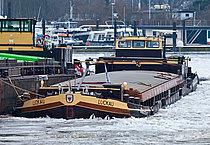Ship: (14, 35, 205, 123)
